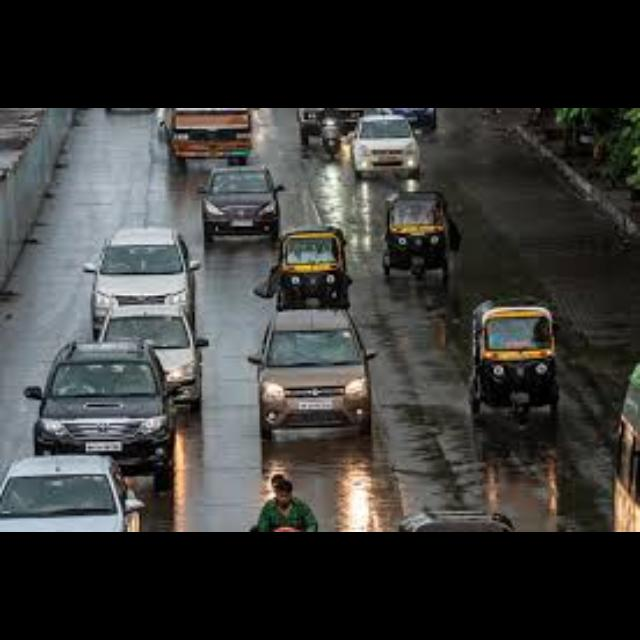number-plate: (86, 439, 121, 451), (297, 398, 329, 410), (373, 155, 399, 164), (232, 218, 253, 227)
vehicles: (31, 340, 172, 477), (249, 301, 374, 440), (81, 226, 197, 340), (466, 298, 556, 416), (0, 454, 130, 531), (260, 224, 350, 310), (197, 162, 283, 243), (380, 190, 452, 283), (348, 113, 420, 180)
